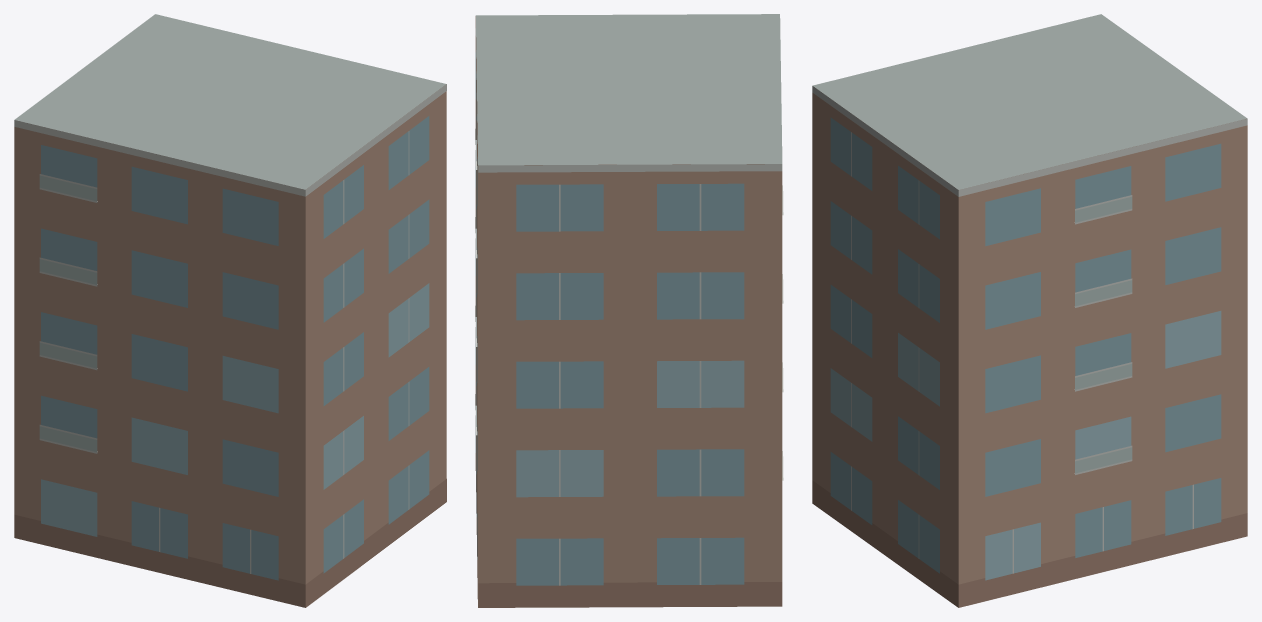
The model's file is survey-upis-32532062.glb.
3 views of the same model, side by side, from view 1: azimuth 30°, elevation 25°; view 2: azimuth 150°, elevation 25°; view 3: azimuth 270°, elevation 25° (orthographic). The views are drawn at different scales.
Parts seen in each view (by area): view 1: survey-upis-32532062.tmp; view 2: survey-upis-32532062.tmp; view 3: survey-upis-32532062.tmp.
Boxes of the visible parts, <box> form: survey-upis-32532062.tmp: <box>14,14,446,607</box>; survey-upis-32532062.tmp: <box>475,14,783,607</box>; survey-upis-32532062.tmp: <box>812,14,1247,607</box>.
Size of the model in its own units: 13.48 by 14.9 by 14.08.
